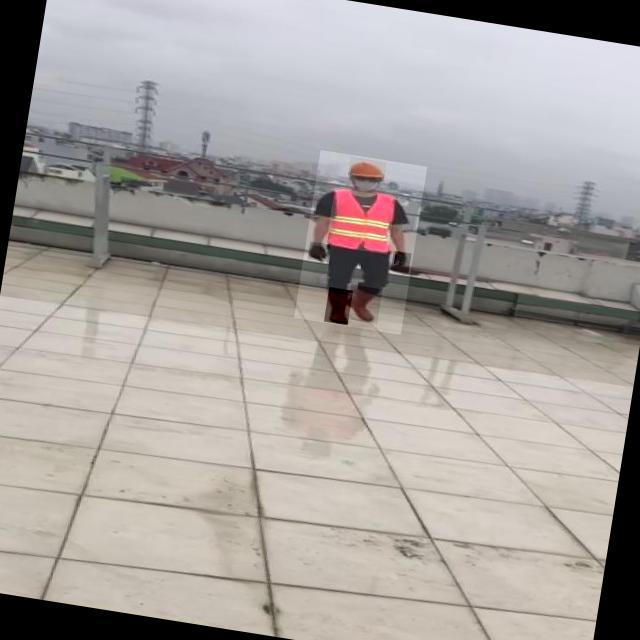Gloves: (346, 284, 383, 324), (324, 287, 353, 325)
Helmet: (349, 157, 387, 180)
Human: (294, 151, 427, 336)
Safety Boot: (308, 242, 331, 263), (391, 251, 412, 274)
Safety Vest: (326, 188, 396, 255)
